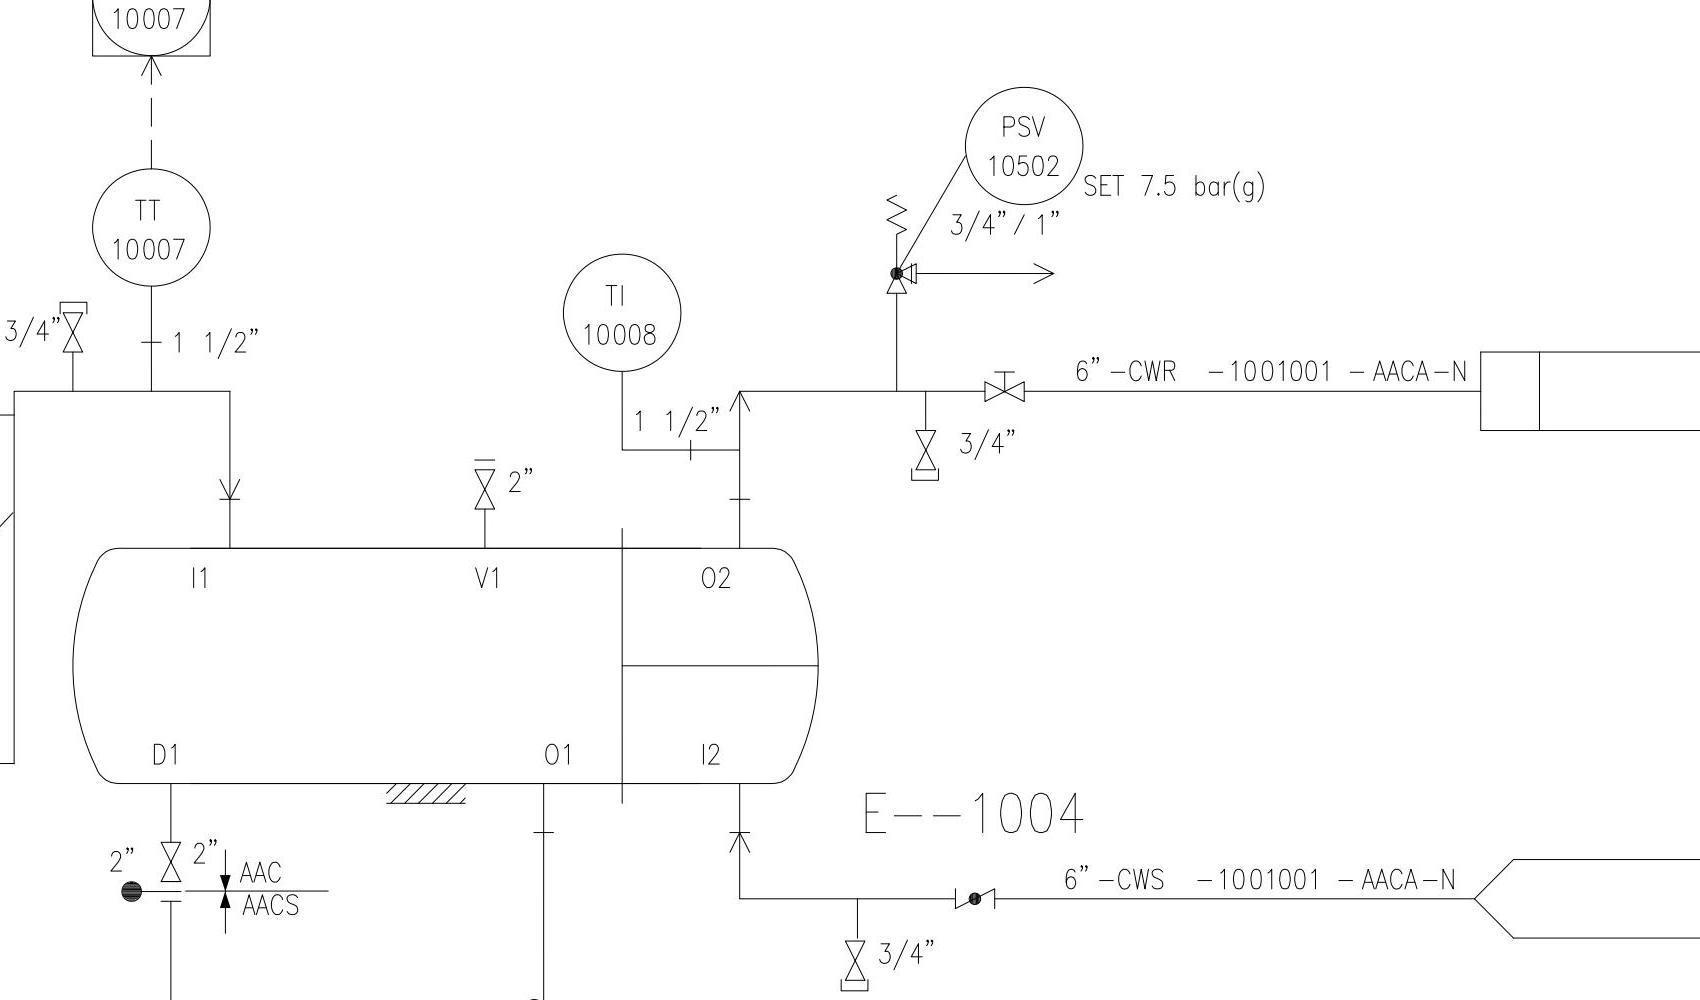E: (67, 540, 824, 793)
EC: (833, 907, 875, 995), (52, 296, 95, 376), (905, 411, 948, 488)
GV: (155, 836, 185, 887), (470, 464, 498, 518), (840, 936, 869, 985), (912, 425, 938, 475), (62, 311, 83, 358)
HV: (980, 362, 1029, 408)
RPV: (875, 190, 930, 299)
